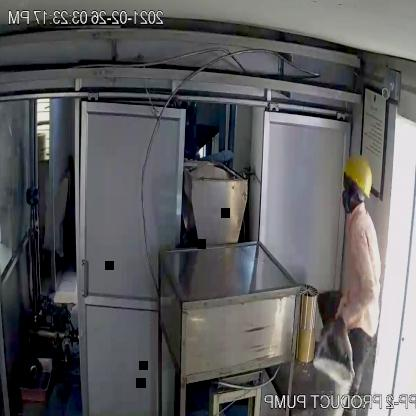helmet: (339, 149, 379, 193)
